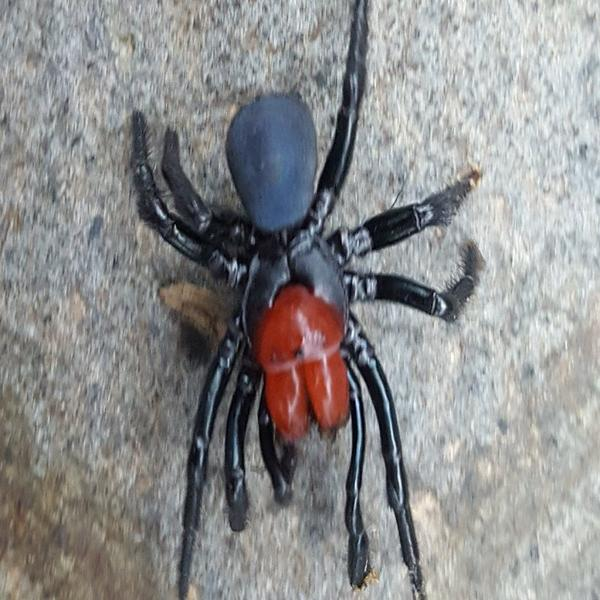Red Headed Mouse Spider: (133, 4, 476, 594)
